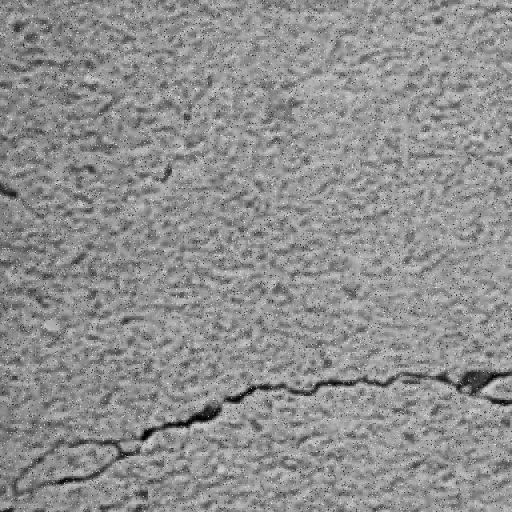moderate crack: (9, 435, 125, 491), (93, 492, 147, 512)
